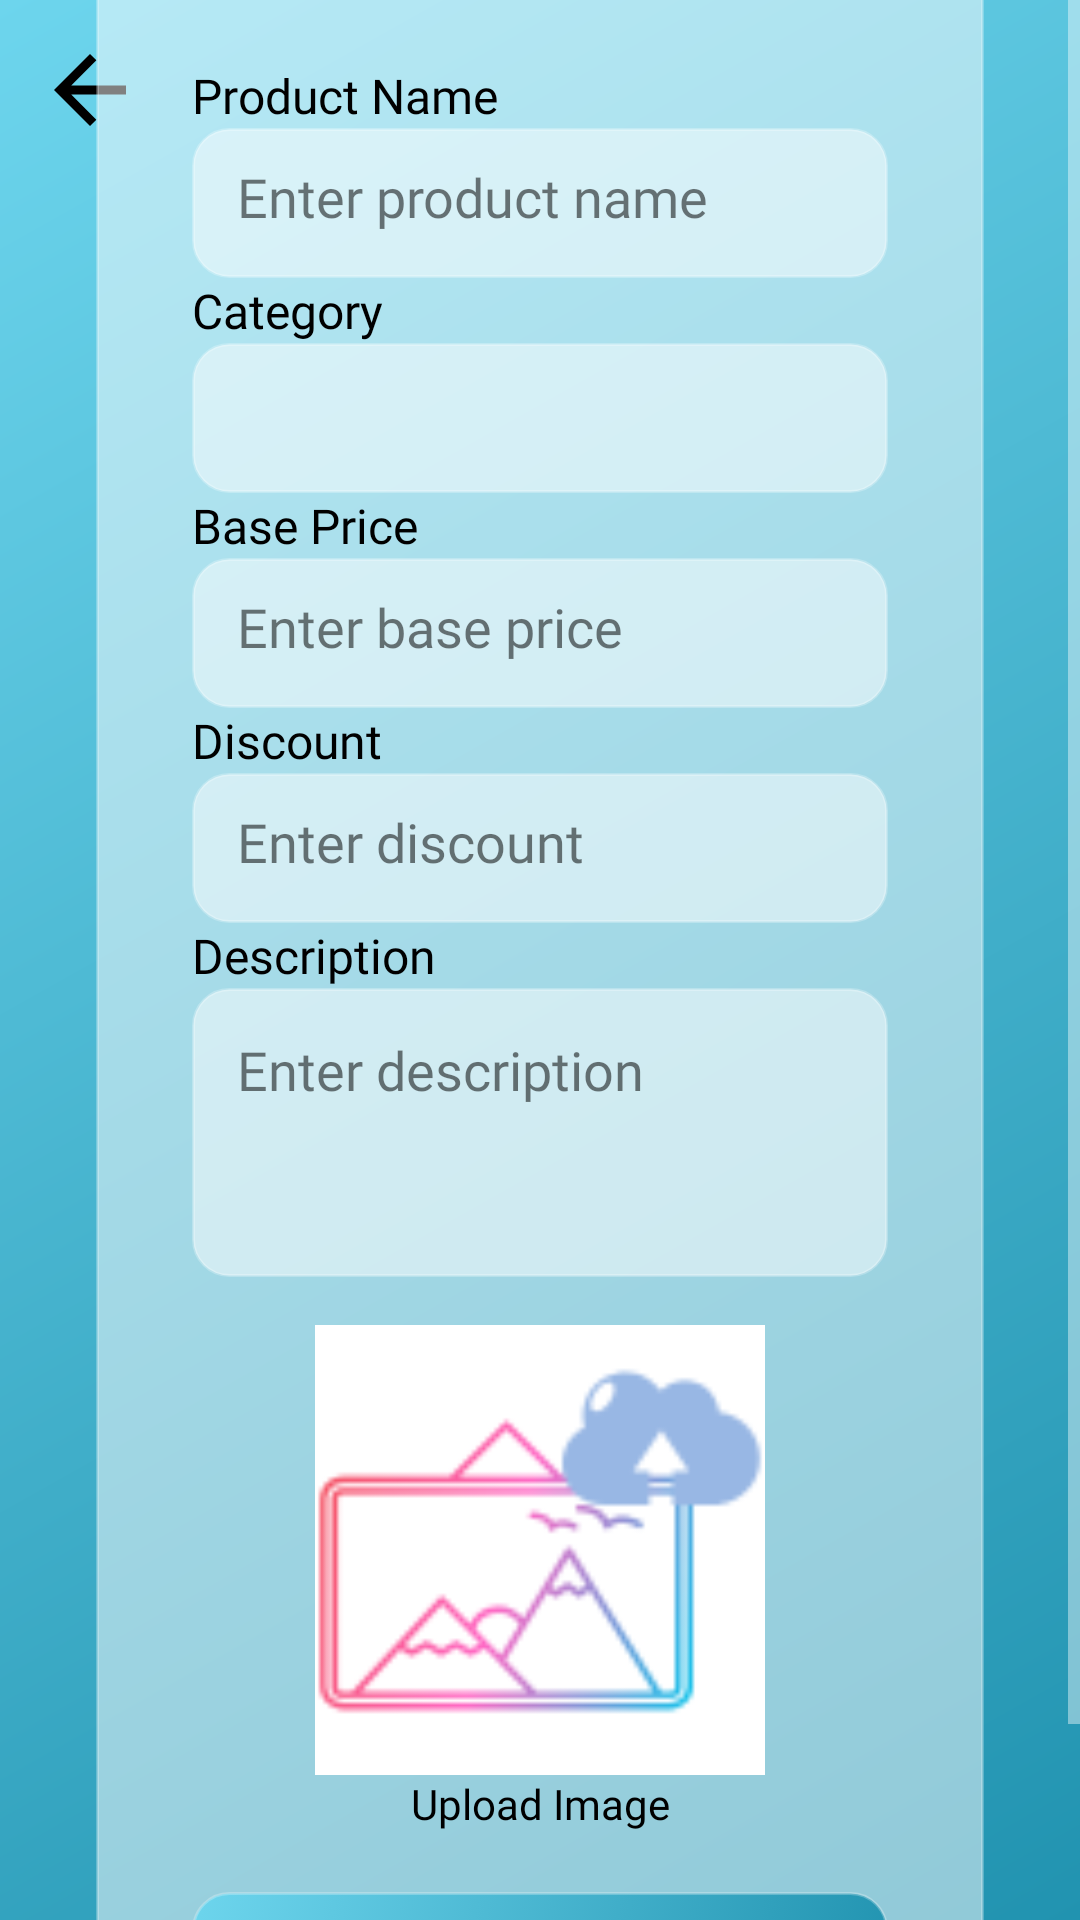

Icons on this 1080x1920 Android screen, each with its box as Rect(x1, y1, x2, y2):
arrow back: Rect(0, 0, 126, 180)
